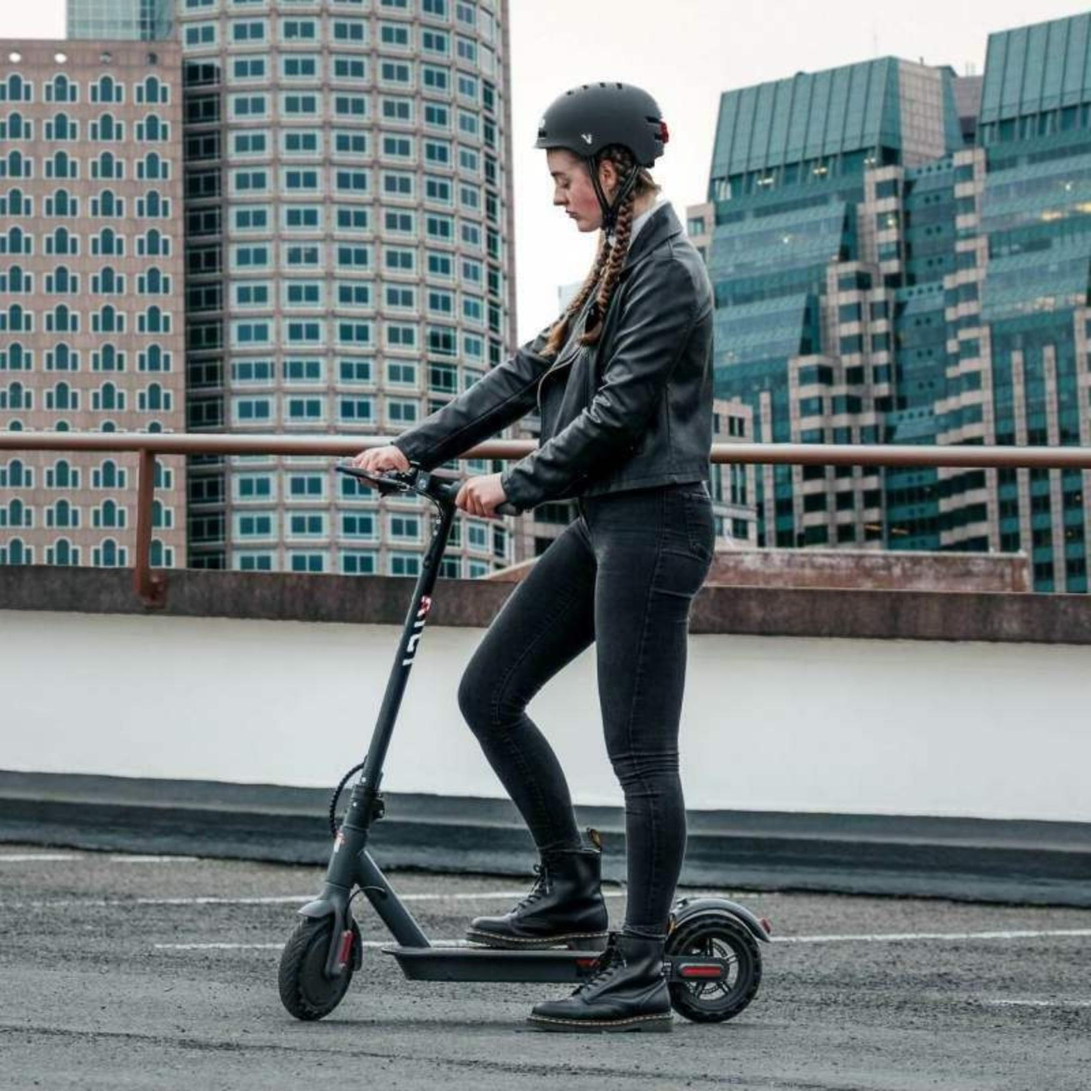helmet: (509, 73, 707, 262)
human: (373, 79, 687, 1038)
kickboard: (273, 890, 787, 1035)
